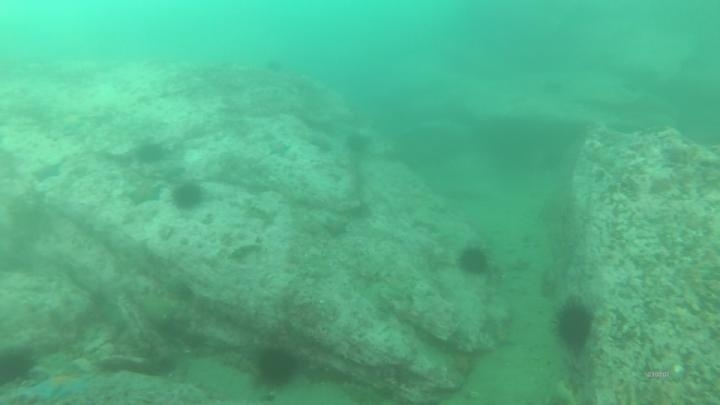echinus: (551, 299, 596, 352), (253, 344, 301, 389), (0, 344, 38, 386), (456, 244, 492, 278), (169, 180, 206, 213), (133, 139, 168, 167), (343, 130, 373, 157)
starfish: (24, 370, 91, 402), (124, 179, 164, 208), (55, 108, 89, 136), (30, 158, 65, 184), (321, 214, 351, 240), (264, 138, 293, 159)
